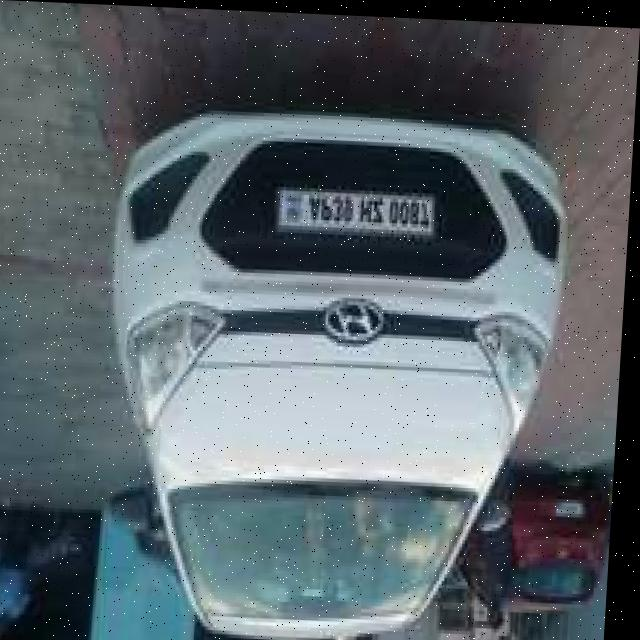plate: (282, 180, 440, 236)
